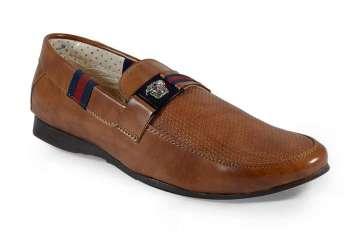Footwear: (26, 31, 333, 203)
